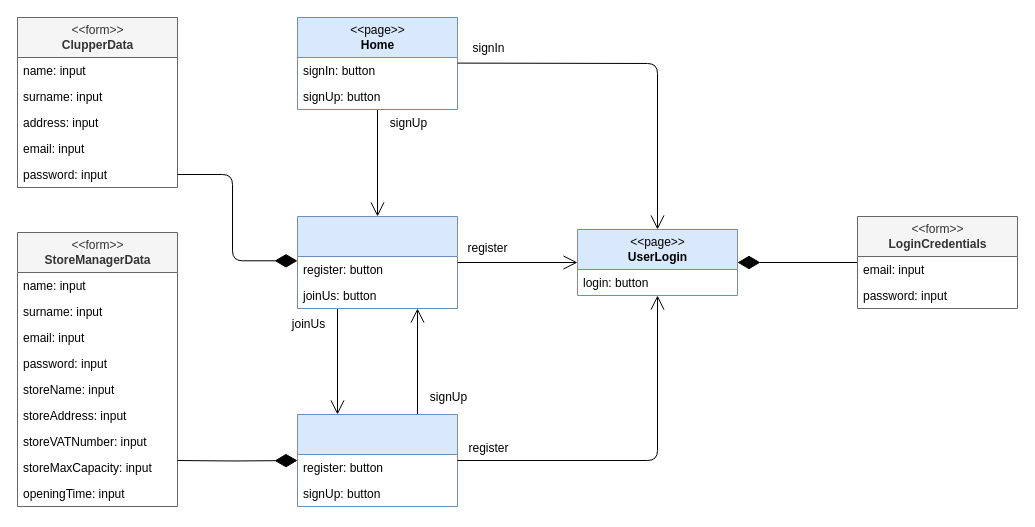
The diagram is 1035 pixels wide and 527 high, and some of its shapes have lost their labels. Each missing label, with the box of its shape:
<<page>> ClupperRegister: (296, 216, 458, 308)
<<page>> StoreManagerRegister: (296, 414, 458, 506)
